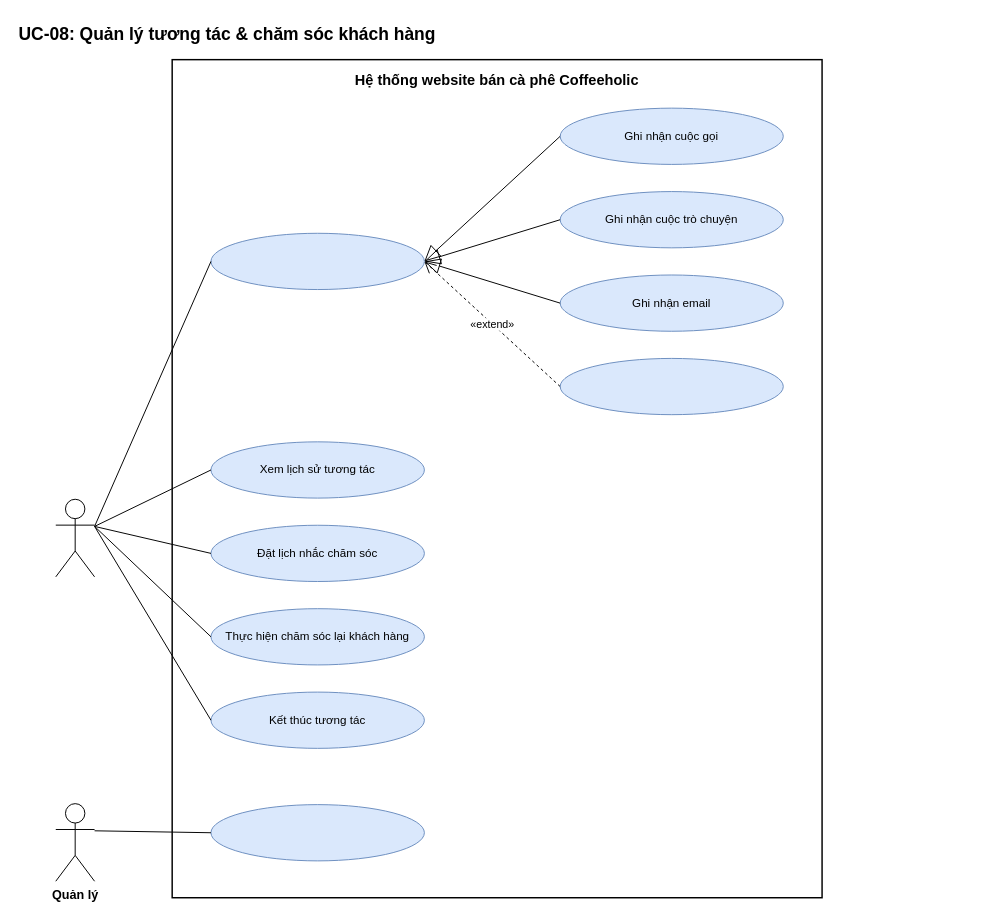
Image size: 1003x920. Some labels were removed from this diagram. Here are the shapes that lost their labels. From the top down, the box of each, then its label:
(210, 232, 424, 290): Tạo lịch sử tương tác
(559, 357, 783, 415): Thêm ghi chú
(55, 498, 95, 577): Nhân viên
(210, 804, 424, 861): Phân công nhân viên phụ trách
